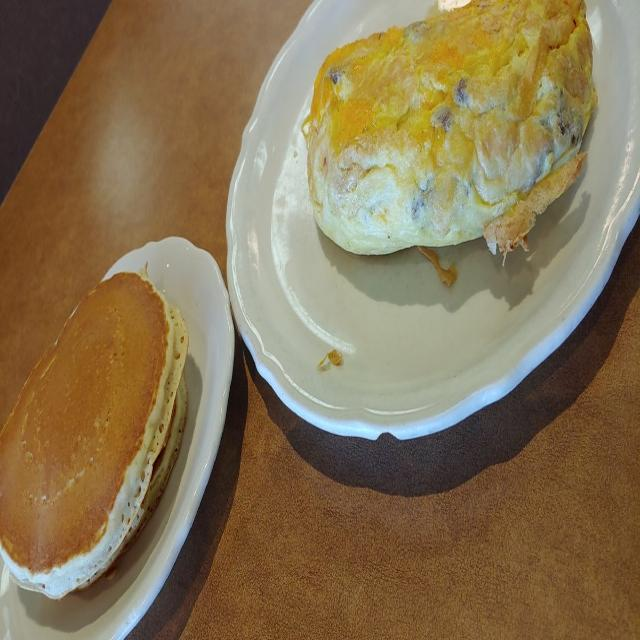Omelette: (302, 0, 612, 285)
Pancakes: (0, 249, 198, 618)
